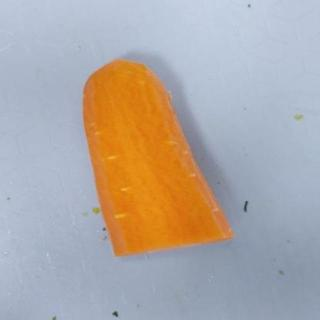carrot: (77, 53, 241, 261)
